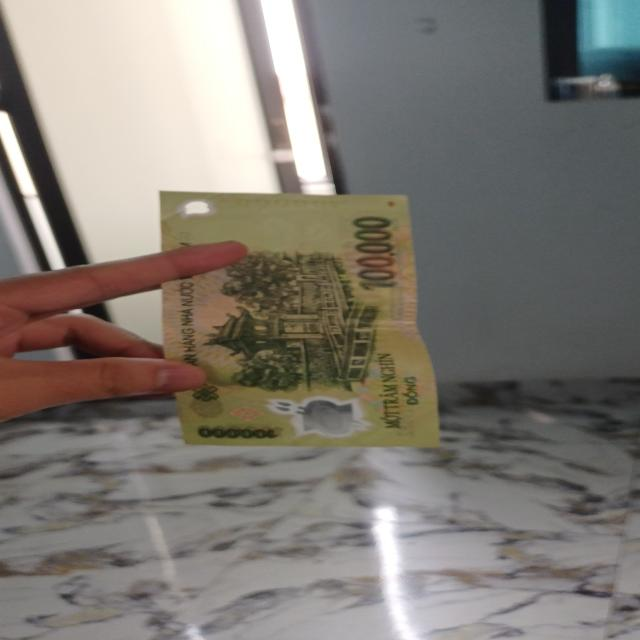100 000 VND: (153, 188, 449, 450)
